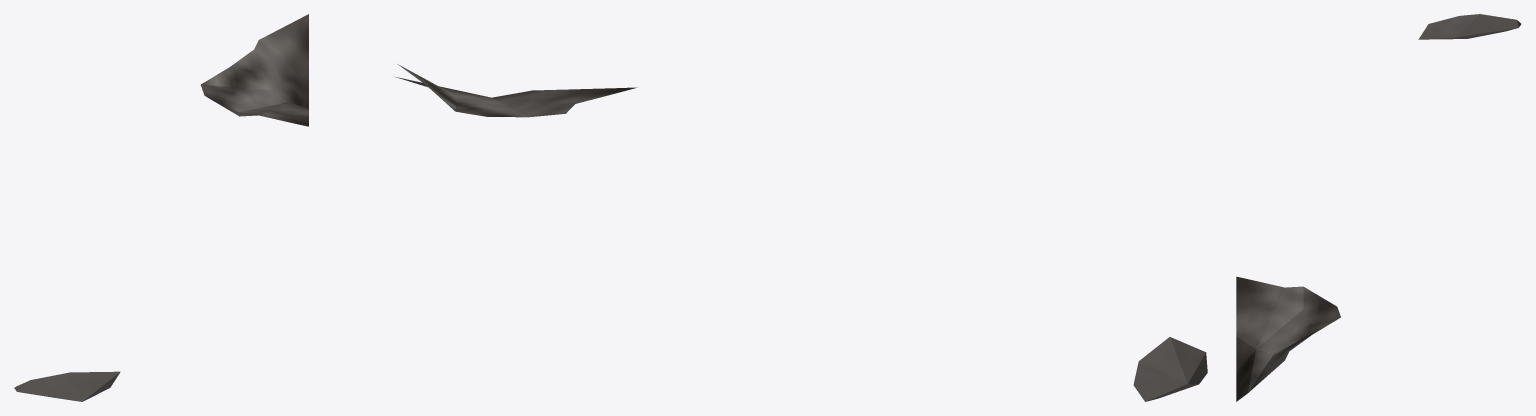
3 views of the same model, side by side, from view 1: azimuth 90°, elevation 25°; view 2: azimuth 150°, elevation 25°; view 3: azimuth 270°, elevation 25° (orthographic). The views are drawn at different scales.
Size of the model in its own units: 2.61 by 0.1442 by 0.8471.
Materials: 1 (1 with a texture image).
